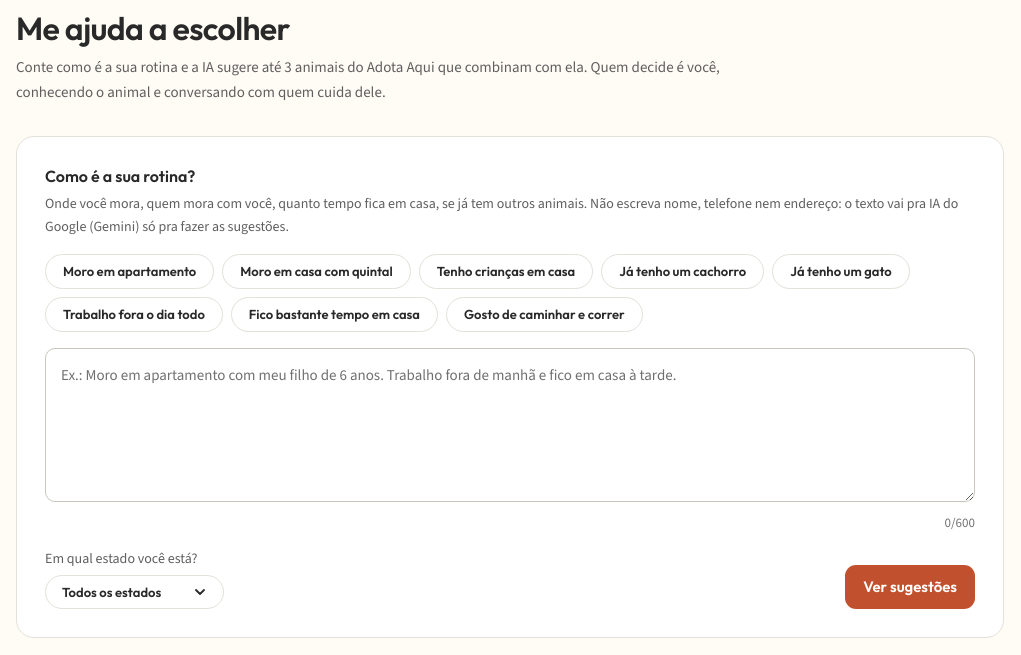
Test: rotina curta demais não vai pra IA
Replace the text in the text box labelled "Como é a sua rotina?" with "casa" at (510, 425), box [45,348,975,502]
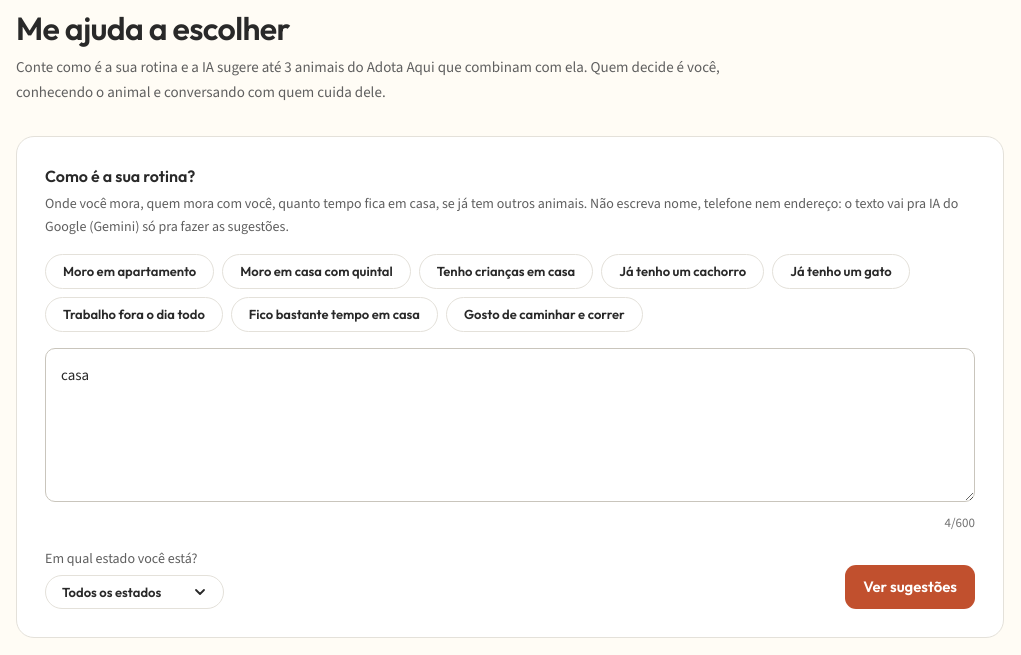
Click the button "Ver sugestões".
click(910, 587)  # box [845,565,975,609]
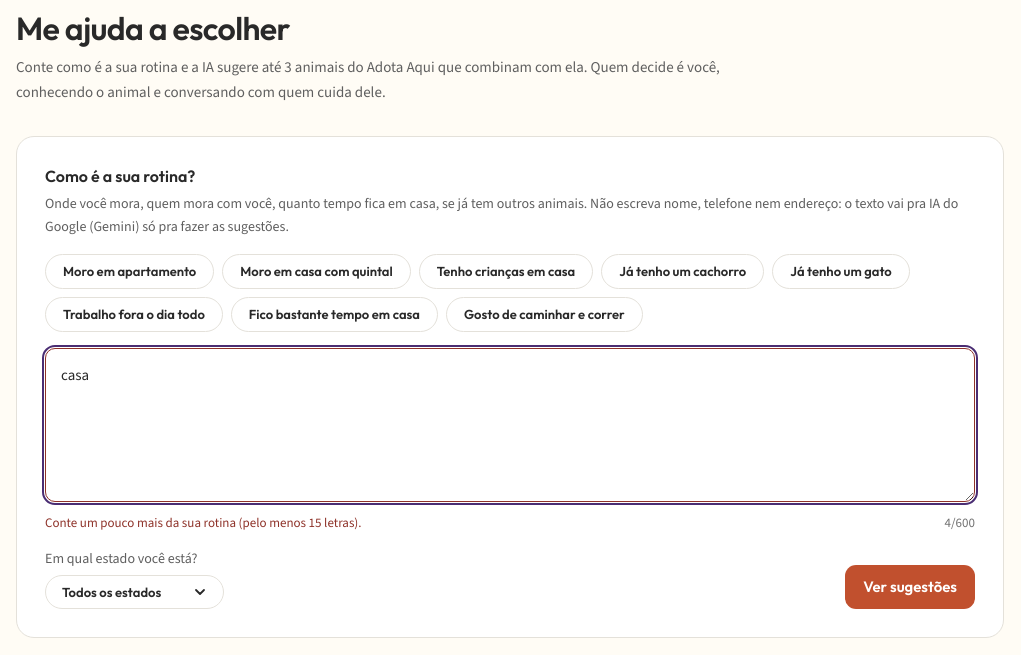
Now the text "Conte um pouco mais da sua rotina (pelo menos 15 letras)." is shown, box [45,513,362,532]
